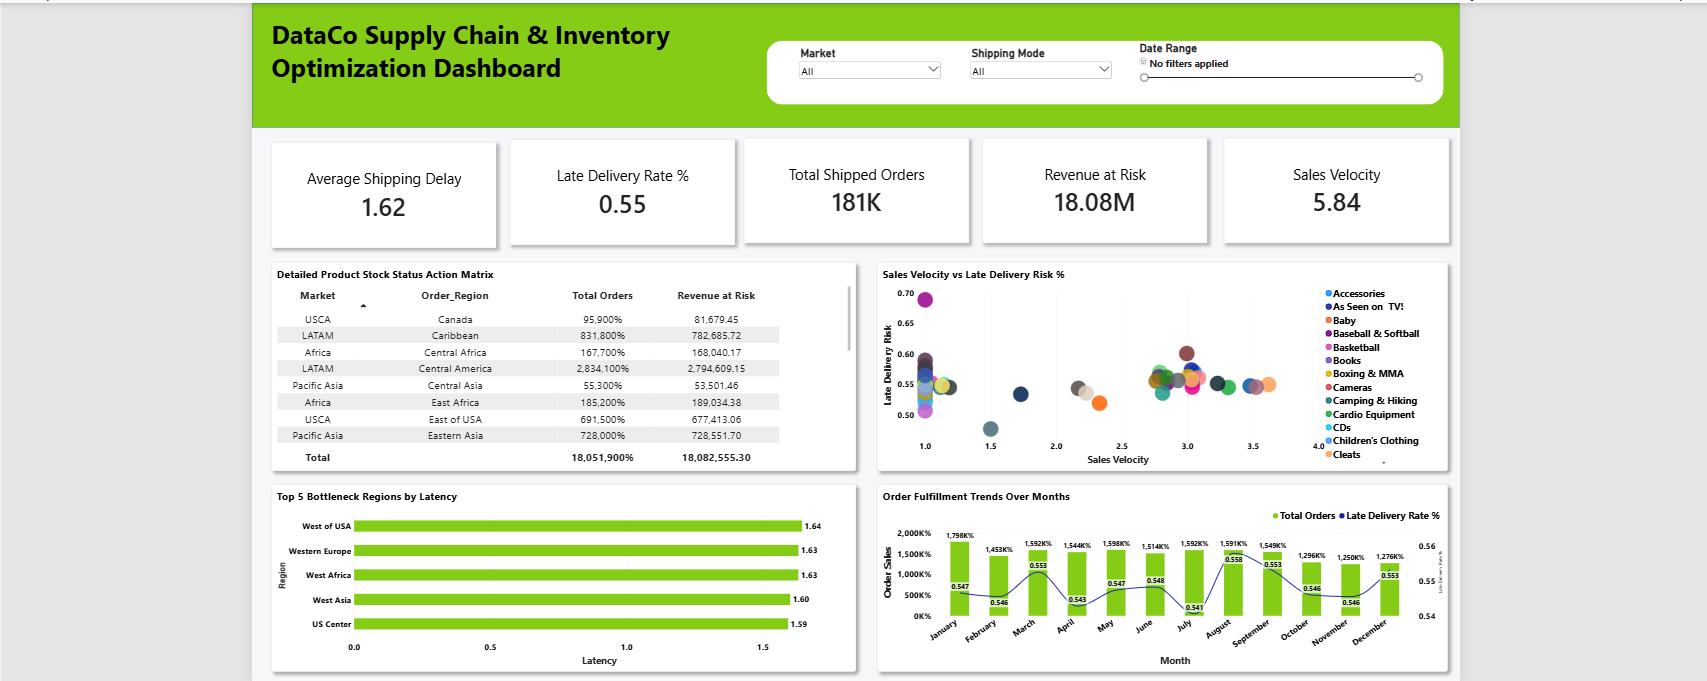

Layout of this report page (visuals, bound fields, positions):
{"tool":"powerbi","page":{"name":"Regional Risk","canvas":[3840,2160],"ordinal":1},"visuals":[{"type":"shape","box":[0,0,3841.3,396.1],"z":0},{"type":"textbox","box":[62,42.9,1684.5,243.4],"z":1000},{"type":"cardVisual","fields":{"Data":["cleaned_supply_chain.-- 2. Late Delivery Rate %Late Delivery Rate %"]},"box":[822.1,436.5,715,334.5],"z":2000},{"type":"cardVisual","fields":{"Data":["cleaned_supply_chain.-- 1. Total Orders ShippedTotal Orders"]},"box":[1564.7,430.9,715,334.5],"z":3000},{"type":"cardVisual","fields":{"Data":["cleaned_supply_chain.-- 4. Average Shipping Delay (Days)Avg Shipping Delay"]},"box":[62.4,442.2,715,334.5],"z":4000},{"type":"cardVisual","fields":{"Data":["cleaned_supply_chain.-- 3. Revenue at Risk ($)Revenue at Risk"]},"box":[2324.4,430.9,715,334],"z":5000},{"type":"cardVisual","fields":{"Data":["cleaned_supply_chain.Sales Velocity"]},"box":[3089.8,430.9,715,334.5],"z":6000},{"type":"barChart","title":"Top 5 Bottleneck Regions by Latency","fields":{"Category":["cleaned_supply_chain.order_region"],"Y":["cleaned_supply_chain.-- 4. Average Shipping Delay (Days)Avg Shipping Delay"]},"box":[62.4,1530.7,1859.5,595.3],"z":7000},{"type":"lineClusteredColumnComboChart","title":"Order Fulfillment Trends Over Months","fields":{"Category":["cleaned_supply_chain.order_date.Variation.Date Hierarchy.Month"],"Y":["cleaned_supply_chain.Total Orders"],"Y2":["cleaned_supply_chain.-- 2. Late Delivery Rate %Late Delivery Rate %"]},"box":[1989.9,1530.7,1814.2,595.3],"z":8000},{"type":"tableEx","title":"Detailed Product Stock Status Action Matrix","fields":{"Values":["cleaned_supply_chain.market","cleaned_supply_chain.order_region","cleaned_supply_chain.Total Orders","cleaned_supply_chain.-- 3. Revenue at Risk ($)Revenue at Risk"]},"box":[62.4,827.7,1859.5,663.3],"z":9000},{"type":"scatterChart","title":"Sales Velocity vs Late Delivery Risk %","fields":{"Series":["cleaned_supply_chain.category_name"],"X":["cleaned_supply_chain.Sales Velocity"],"Y":["cleaned_supply_chain.-- 2. Late Delivery Rate %Late Delivery Rate %"]},"box":[1989.9,827.7,1814.2,663.3],"z":10000},{"type":"shape","box":[1638.4,119.1,2154.3,204.1],"z":10500},{"type":"slicer","title":"Market","fields":{"Values":["cleaned_supply_chain.market"]},"box":[1734.8,136.1,459.2,164.4],"z":11000},{"type":"slicer","title":"Market","fields":{"Values":["cleaned_supply_chain.shipping_mode"]},"box":[2279.1,136.1,459.2,164.4],"z":12000},{"type":"slicer","title":"Market","fields":{"Values":["cleaned_supply_chain.order_date"]},"box":[2815.4,124.1,911.4,176.6],"z":14000}]}

Visuals, with their boxes on the page's 3840x2160 design canvas (x1, y1, x2, y2). These are canvas units, not pixel positions in the 1707x681 screenshot, which may show the page scaled, cropped or inside an application window:
shape: {"x1": 0, "y1": 0, "x2": 3841, "y2": 396}
textbox: {"x1": 62, "y1": 43, "x2": 1746, "y2": 286}
cardVisual - cleaned_supply_chain.-- 2. Late Delivery Rate %Late Delivery Rate %: {"x1": 822, "y1": 436, "x2": 1537, "y2": 771}
cardVisual - cleaned_supply_chain.-- 1. Total Orders ShippedTotal Orders: {"x1": 1565, "y1": 431, "x2": 2280, "y2": 765}
cardVisual - cleaned_supply_chain.-- 4. Average Shipping Delay (Days)Avg Shipping Delay: {"x1": 62, "y1": 442, "x2": 777, "y2": 777}
cardVisual - cleaned_supply_chain.-- 3. Revenue at Risk ($)Revenue at Risk: {"x1": 2324, "y1": 431, "x2": 3039, "y2": 765}
cardVisual - cleaned_supply_chain.Sales Velocity: {"x1": 3090, "y1": 431, "x2": 3805, "y2": 765}
"Top 5 Bottleneck Regions by Latency" barChart: {"x1": 62, "y1": 1531, "x2": 1922, "y2": 2126}
"Order Fulfillment Trends Over Months" lineClusteredColumnComboChart: {"x1": 1990, "y1": 1531, "x2": 3804, "y2": 2126}
"Detailed Product Stock Status Action Matrix" tableEx: {"x1": 62, "y1": 828, "x2": 1922, "y2": 1491}
"Sales Velocity vs Late Delivery Risk %" scatterChart: {"x1": 1990, "y1": 828, "x2": 3804, "y2": 1491}
shape: {"x1": 1638, "y1": 119, "x2": 3793, "y2": 323}
"Market" slicer: {"x1": 1735, "y1": 136, "x2": 2194, "y2": 300}
"Market" slicer: {"x1": 2279, "y1": 136, "x2": 2738, "y2": 300}
"Market" slicer: {"x1": 2815, "y1": 124, "x2": 3727, "y2": 301}
